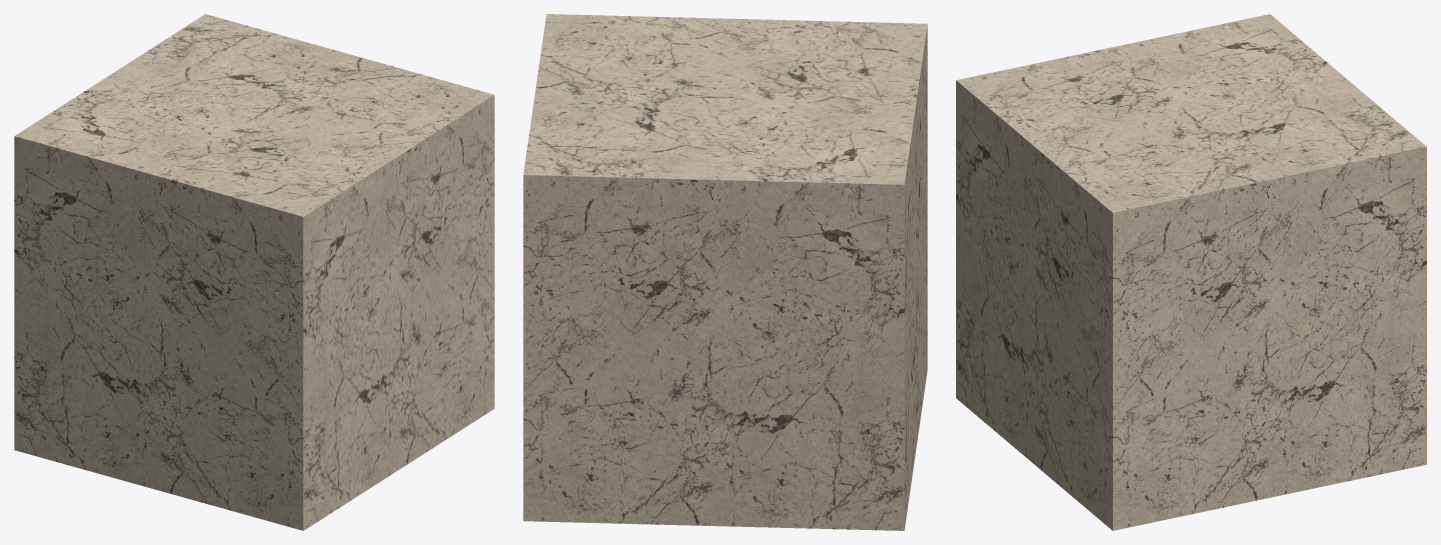
Rendered from AnimatedCube.glb.
The picture shows the model from 3 angles, left to right: view 1: azimuth 30°, elevation 25°; view 2: azimuth 150°, elevation 25°; view 3: azimuth 270°, elevation 25°; orthographic projection. The views are drawn at different scales.
Visible parts, largest first — view 1: AnimatedCube; view 2: AnimatedCube; view 3: AnimatedCube.
Part boxes in pixels (<box>): AnimatedCube: <box>14,14,494,530</box>; AnimatedCube: <box>523,14,927,530</box>; AnimatedCube: <box>956,14,1426,530</box>.
Bounding box in the file's own units: 2.68 × 2 × 2.68.
1 material, 1 textured.
